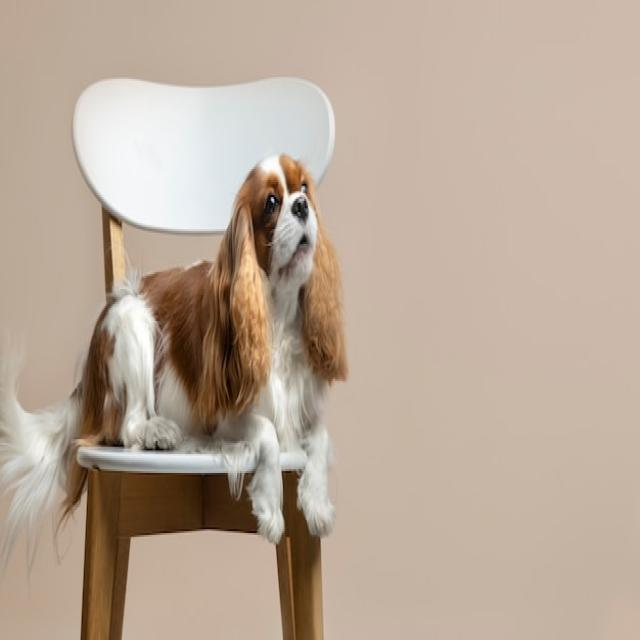Dog: (0, 152, 348, 580)
